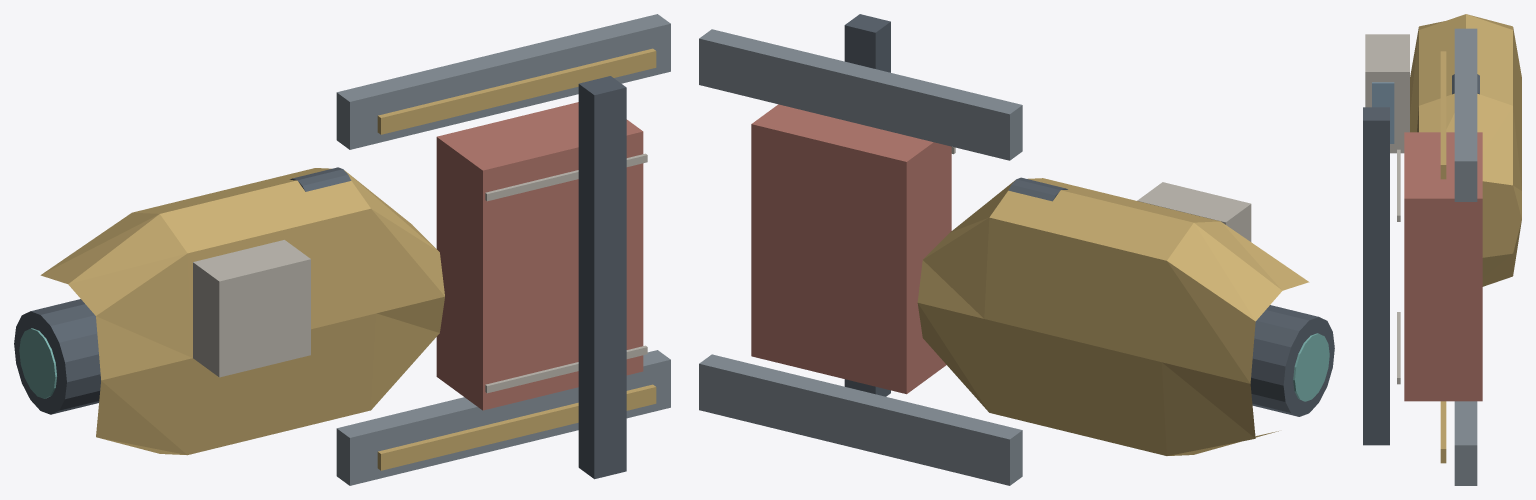
File: 09_pallet_jack.glb
3 renders of one model, left to right at view 1: azimuth 30°, elevation 25°; view 2: azimuth 150°, elevation 25°; view 3: azimuth 270°, elevation 25°, orthographic. The views are drawn at different scales.
Parts seen in each view (by area): view 1: HULL_001, part_007, part_006, part_004, part_012, part_002, part_014, part_005, part_003, part_015, part_010, part_008 (+1 smaller); view 2: HULL_001, part_007, part_002, part_004, part_014, part_012, part_006, part_015, part_011; view 3: part_007, HULL_001, part_006, part_004, part_012, part_002, part_005, part_013, part_003, part_008, part_010.
Boxes of the visible parts, x1,y1,x2,y2 form: HULL_001: [40, 168, 444, 455]; part_007: [436, 102, 643, 410]; part_006: [578, 76, 626, 479]; part_004: [336, 14, 670, 149]; part_012: [193, 240, 310, 377]; part_002: [336, 350, 670, 485]; part_014: [14, 299, 100, 414]; part_005: [377, 48, 656, 134]; part_003: [377, 384, 656, 470]; part_015: [19, 328, 56, 398]; part_010: [485, 153, 647, 201]; part_008: [485, 345, 647, 393]; HULL_001: [917, 178, 1309, 455]; part_007: [751, 104, 951, 394]; part_002: [699, 354, 1022, 485]; part_004: [699, 29, 1022, 160]; part_014: [1250, 305, 1334, 416]; part_012: [1137, 182, 1251, 241]; part_006: [844, 14, 890, 396]; part_015: [1293, 333, 1329, 401]; part_011: [1008, 177, 1067, 201]; part_007: [1404, 132, 1482, 401]; HULL_001: [1410, 14, 1521, 286]; part_006: [1363, 107, 1389, 445]; part_004: [1454, 28, 1477, 201]; part_012: [1365, 34, 1409, 153]; part_002: [1454, 401, 1477, 485]; part_005: [1440, 51, 1446, 179]; part_013: [1372, 82, 1394, 143]; part_003: [1440, 401, 1446, 463]; part_008: [1397, 312, 1400, 384]; part_010: [1397, 149, 1400, 221].
Size of the model in its own units: 27.34 by 16 by 7.1.
